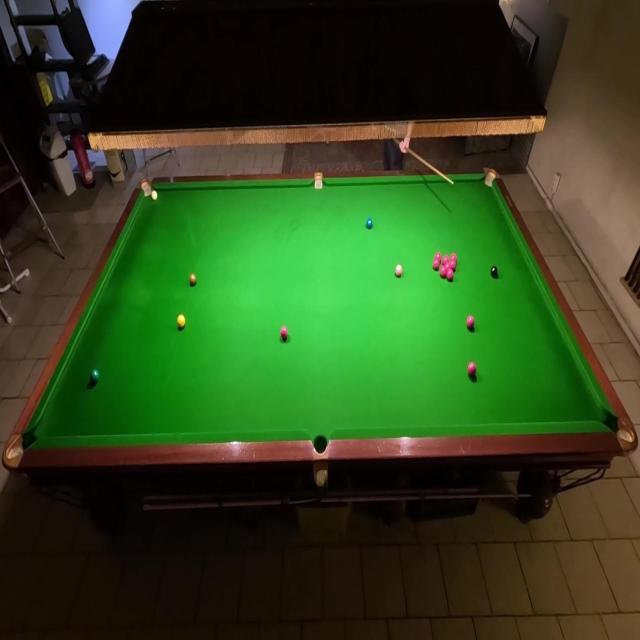Ball: (467, 360, 477, 378), (90, 368, 100, 383), (466, 314, 474, 330), (280, 324, 288, 340), (177, 314, 186, 328), (490, 264, 498, 278), (395, 264, 403, 278), (150, 189, 158, 202), (432, 258, 440, 271), (446, 269, 454, 282), (434, 252, 442, 264), (440, 266, 447, 279), (366, 217, 373, 230), (449, 258, 456, 270), (190, 274, 197, 286), (443, 256, 450, 264), (446, 262, 452, 270), (451, 253, 456, 258)
